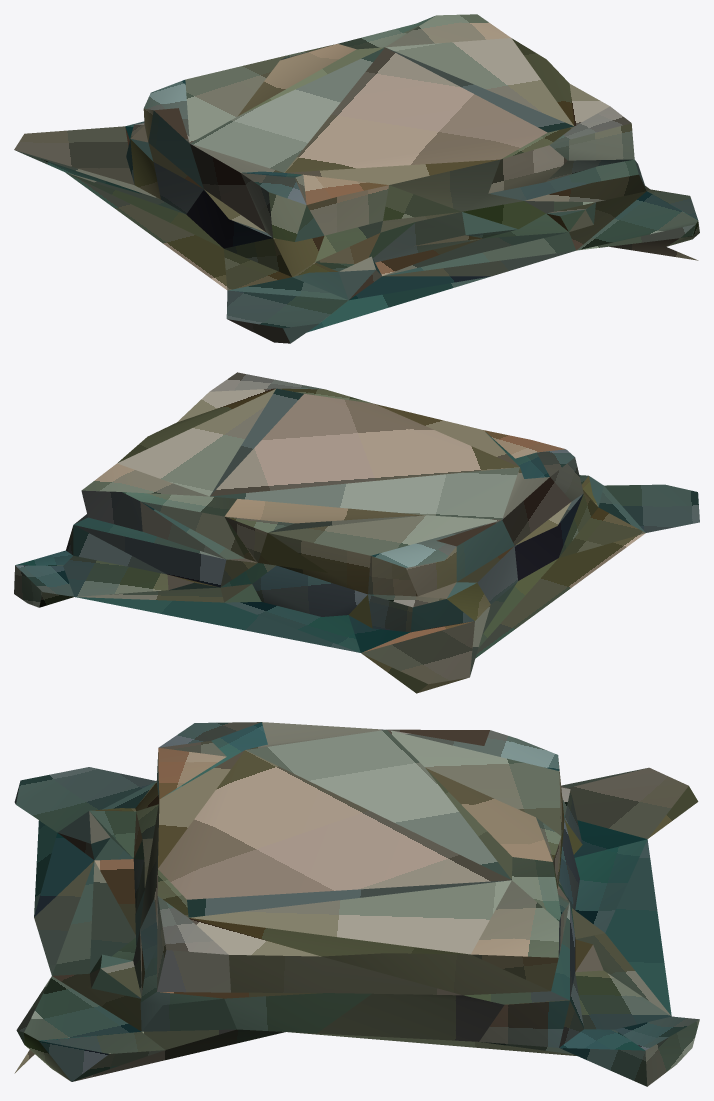
The model's file is lagoon-platform.collision.glb.
The picture shows the model from 3 angles, top to bottom: view 1: azimuth 30°, elevation 25°; view 2: azimuth 150°, elevation 25°; view 3: azimuth 270°, elevation 25°; orthographic projection. The views are drawn at different scales.
Visible parts, largest first — view 1: output_unwrapped; view 2: output_unwrapped; view 3: output_unwrapped.
Part boxes in pixels (x1=…): output_unwrapped: x1=14, y1=14, x2=699, y2=343; output_unwrapped: x1=14, y1=372, x2=699, y2=693; output_unwrapped: x1=14, y1=722, x2=699, y2=1086.
Size of the model in its own units: 1.89 by 0.404 by 1.89.
1 material, 1 textured.
